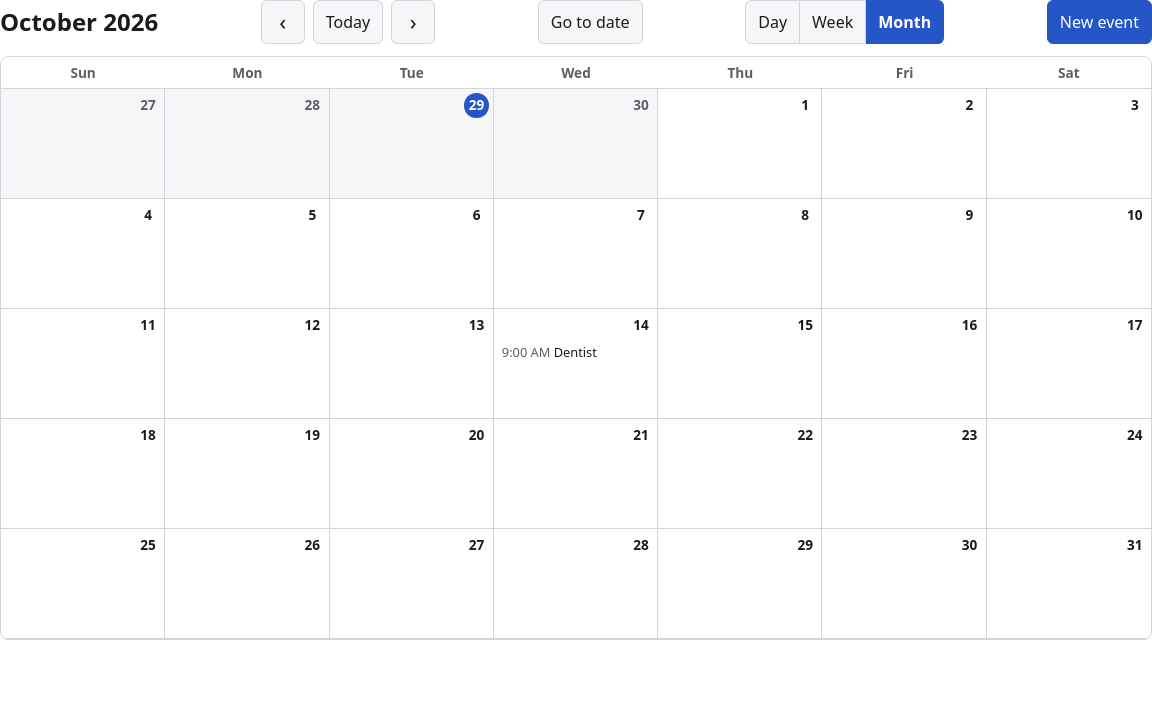
Test: Deleting an event (US3) › shows the conflict message when the event changed elsewhere
What coordinates should you click on to do the following:
click the button with aria-label "Dentist,"
I would click on:
 (575, 352)
Its box is x1=498 y1=342 x2=653 y2=362.
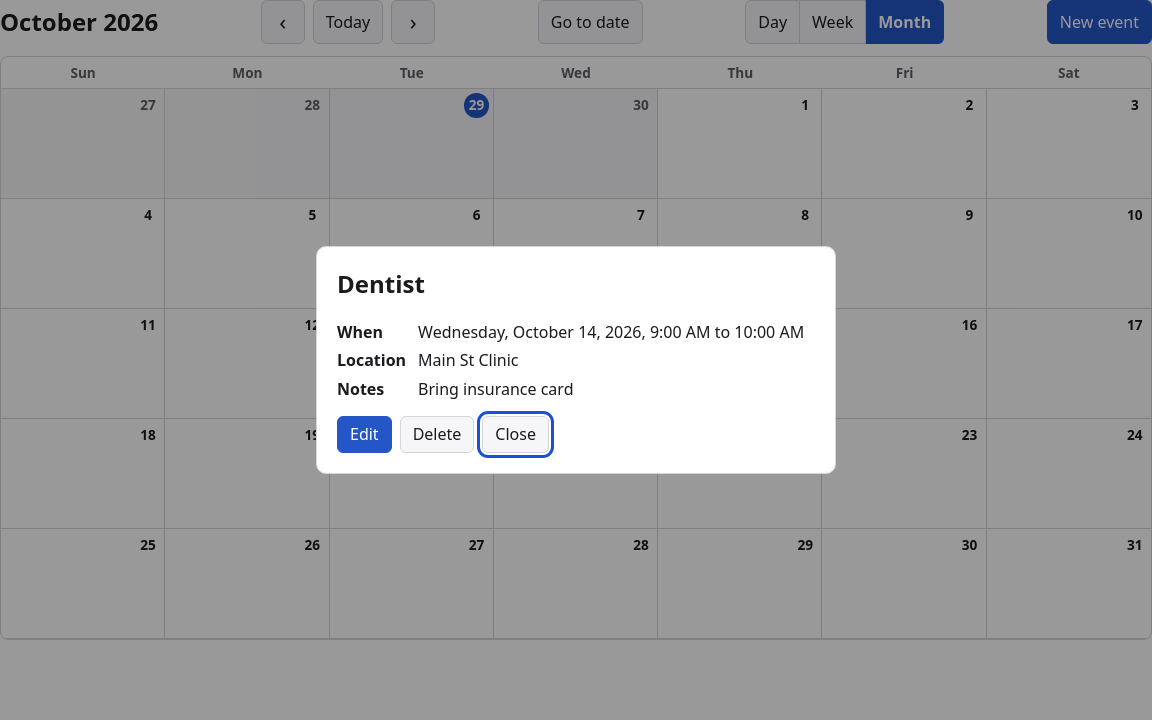
What coordinates should you click on to do the following:
click the button "Delete"
I would click on:
 (437, 434)
Its box is x1=400 y1=416 x2=474 y2=452.
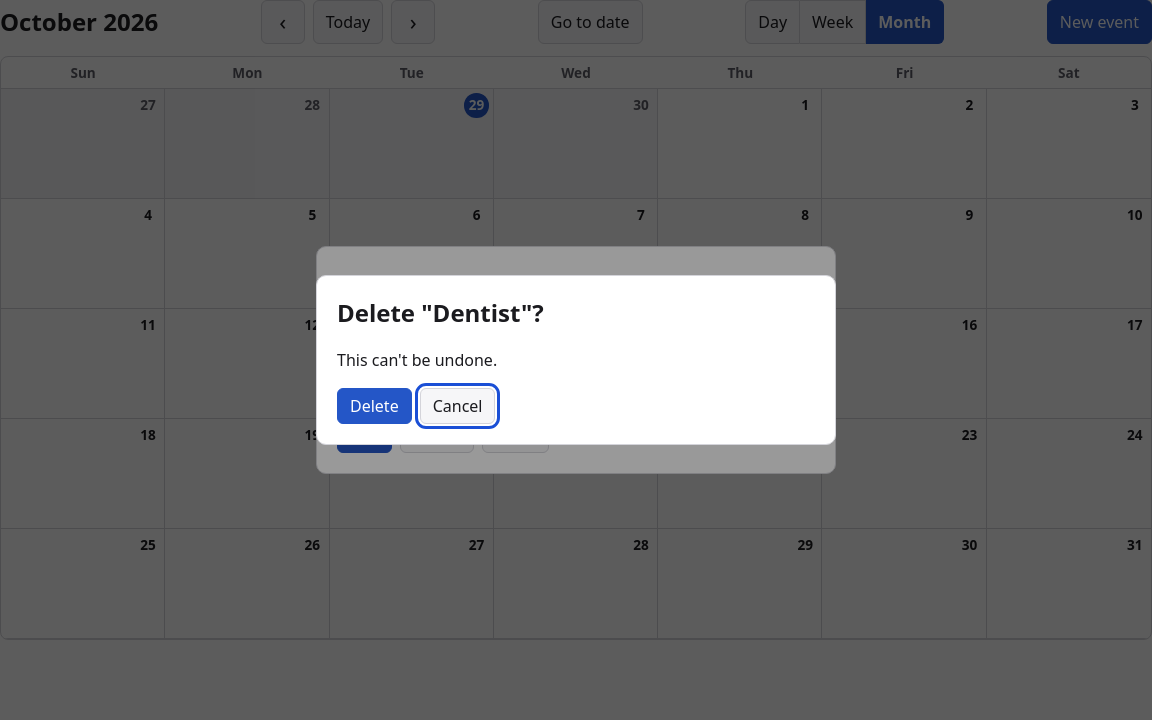
What coordinates should you click on to do the following:
click the button "Delete"
I would click on:
 (374, 406)
Its box is x1=337 y1=388 x2=412 y2=424.
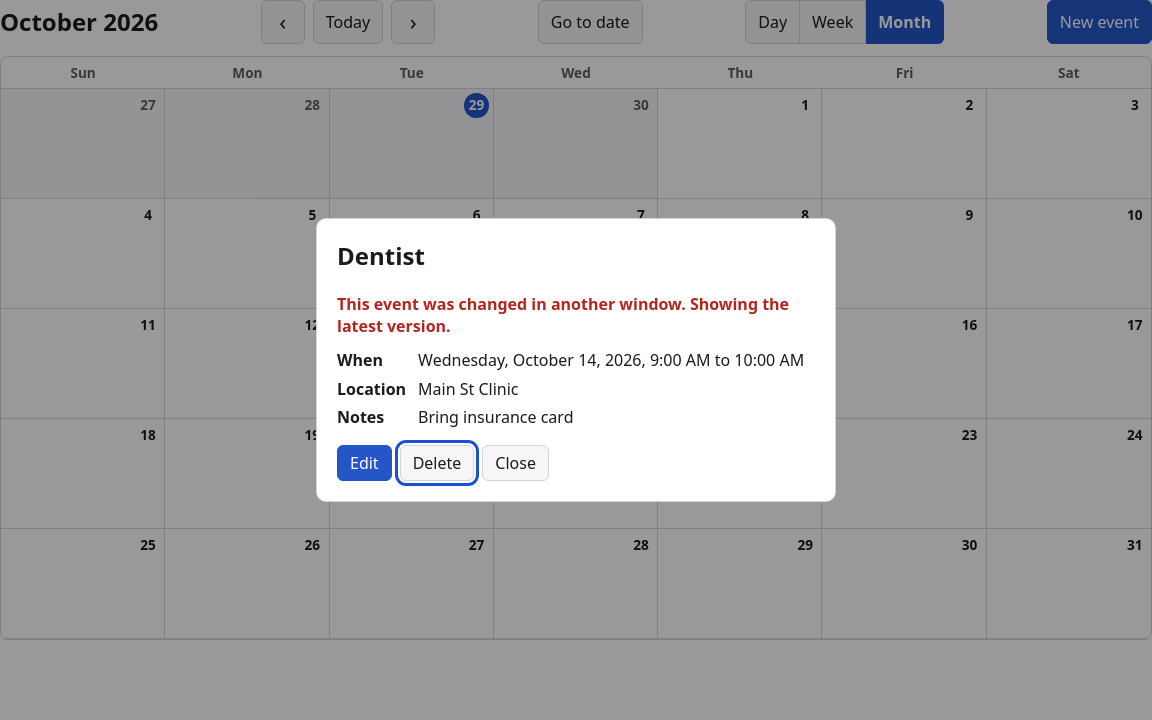
Check: the dialog "Dentist" is shown, box x1=316 y1=218 x2=836 y2=502
Check: the text "This event was changed in another window." is shown, box x1=337 y1=293 x2=789 y2=337
